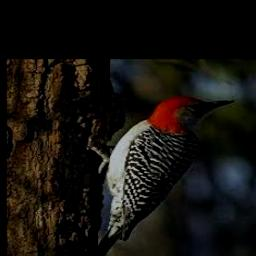Woodpecker: (93, 95, 234, 256)
